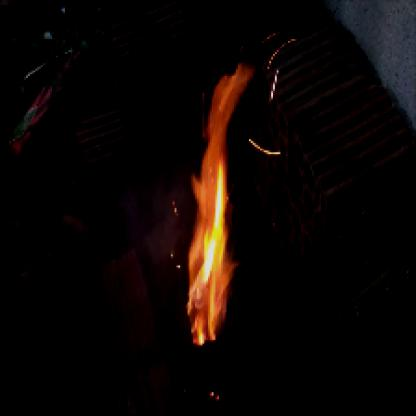Fire: (176, 50, 268, 349)
